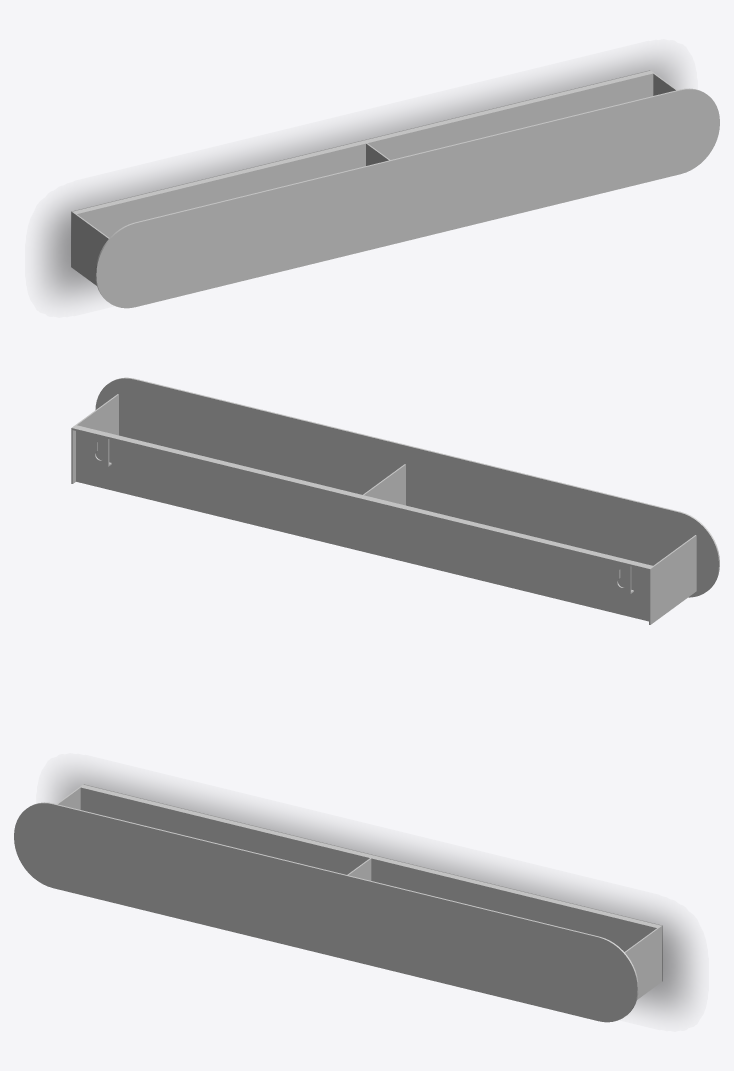
File: round-mono.3d0d97c265.ar.glb
3 renders of one model, top to bottom at view 1: azimuth 30°, elevation 25°; view 2: azimuth 150°, elevation 25°; view 3: azimuth 330°, elevation 25°, orthographic.
Parts seen in each view (by area): view 1: NAUO1, object 2; view 2: NAUO1; view 3: NAUO1, object 2.
Boxes of the visible parts, x1,y1,x2,y2 form: NAUO1: (71,70,719,308); object 2: (42,59,679,297); NAUO1: (71,377,719,624); NAUO1: (14,784,662,1022); object 2: (54,773,691,1011).
Size of the model in its own units: 0.78 by 0.17 by 0.092.
Materials: 2 (1 with a texture image).
